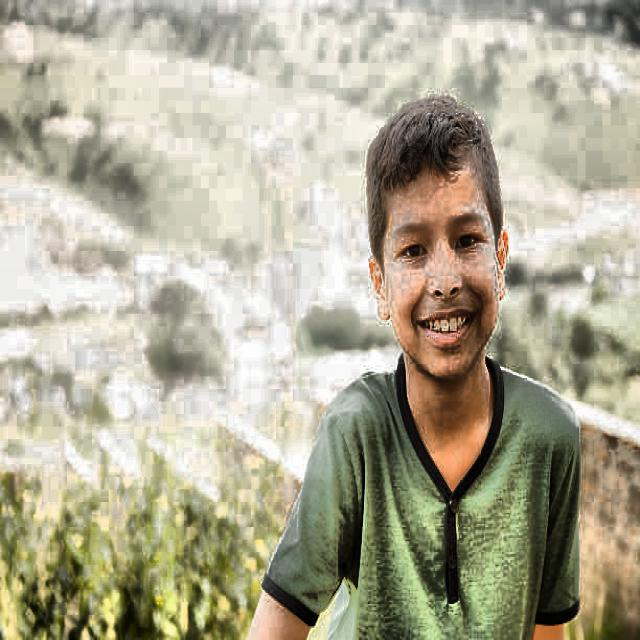Human: (250, 93, 619, 640)
